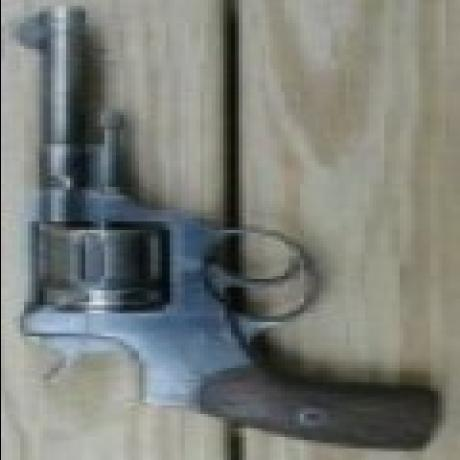weapon: (12, 8, 425, 456)
